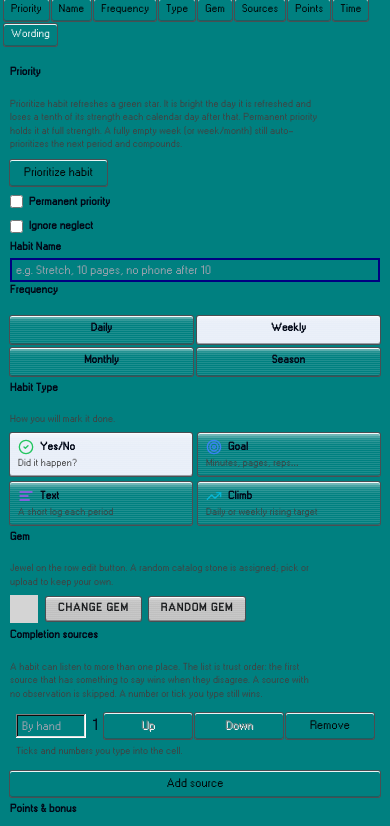
Test: TaskForm › shows tracking auto-fill only while Tracking tags is checked
The width and height of the screenshot is (390, 826).
Click the radio button labelled "Goal Minutes, pages, reps…".
click(289, 454)  # box [198,432,380,476]
(page scrolled)
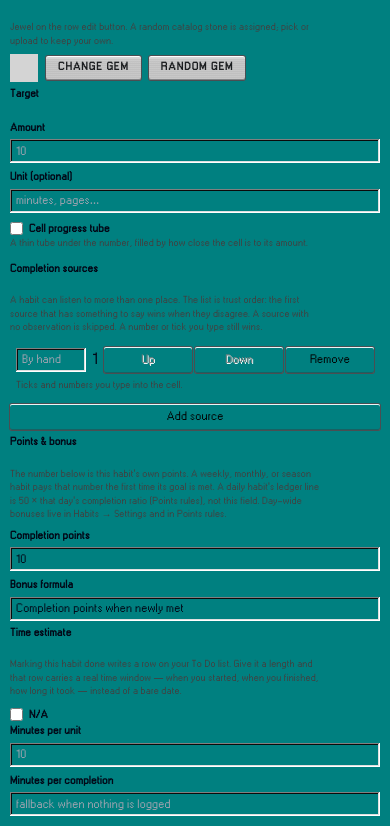
Expected: the text "Auto-fill from Tracking" is not shown
Expected: the text "Counts Done = Tags" is not shown
Click the button "Add source".
click(195, 417)  # box [10,404,380,430]
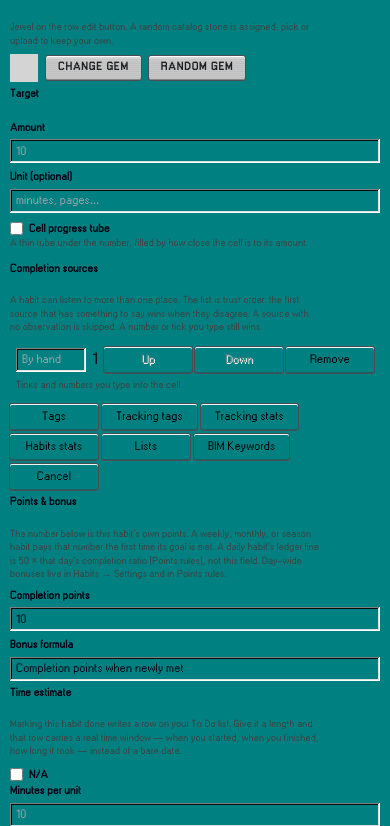
Click the button "Tracking tags".
click(149, 417)  # box [102,404,197,430]
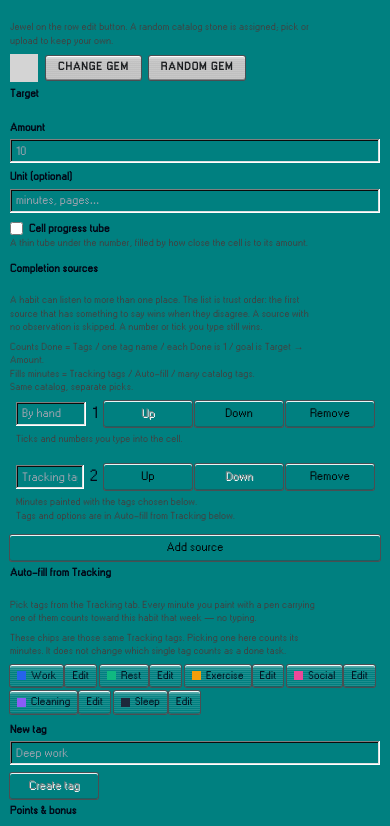
Result: the text "Auto-fill from Tracking" is shown at [10,568,111,578]
Result: the text "counts toward this habit that week" is shown at [10,598,320,626]
Result: the text "Minutes painted with the tags chosen below." is shown at [16,497,197,507]
Click the button with aria-label "Remove Tracking tags".
click(330, 477)  # box [286,464,374,490]
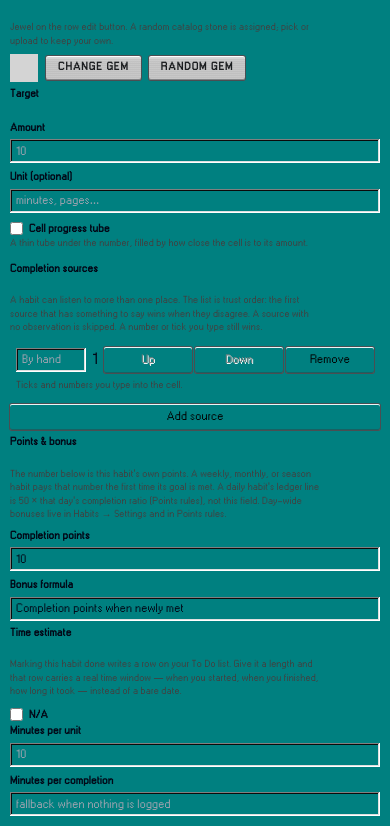
Result: the text "Auto-fill from Tracking" is gone
Result: the text "Counts Done = Tags" is gone
